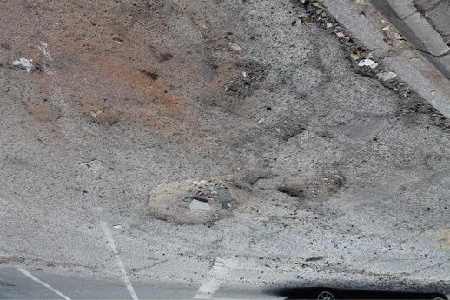pothole: (290, 0, 449, 112), (144, 174, 244, 227), (275, 162, 346, 203), (203, 57, 270, 99)
